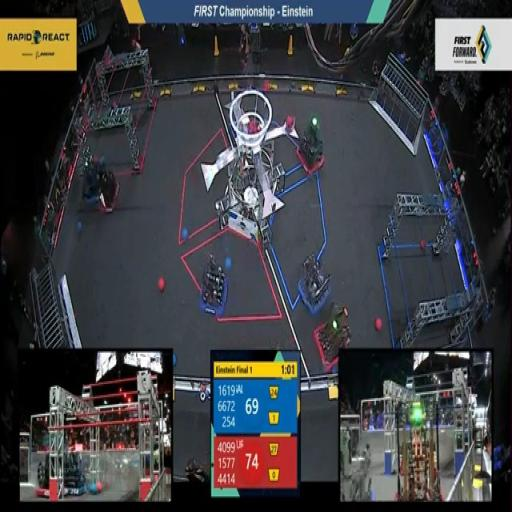robot: (312, 302, 354, 371), (296, 248, 334, 318), (197, 260, 232, 325), (294, 116, 330, 178), (95, 169, 128, 222), (80, 152, 108, 206)
